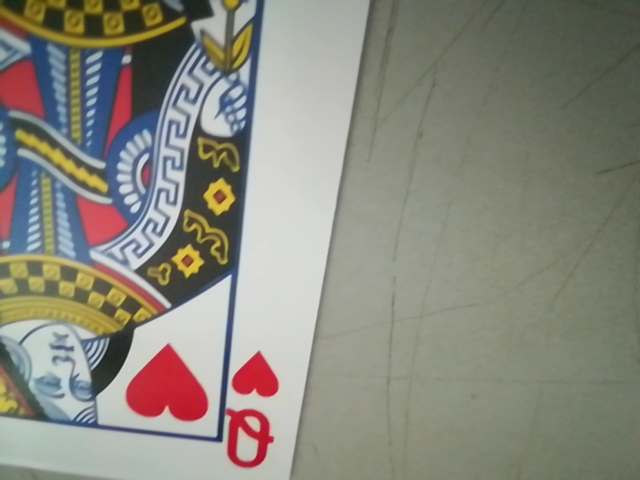hx q: (222, 343, 288, 470)
